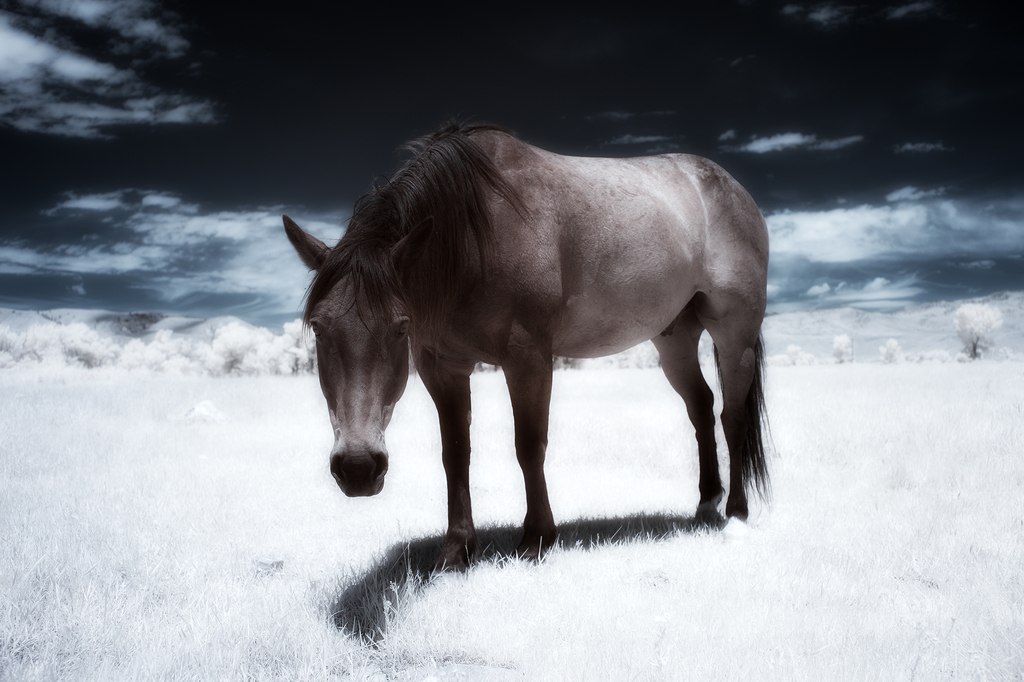horse: (283, 118, 769, 571)
